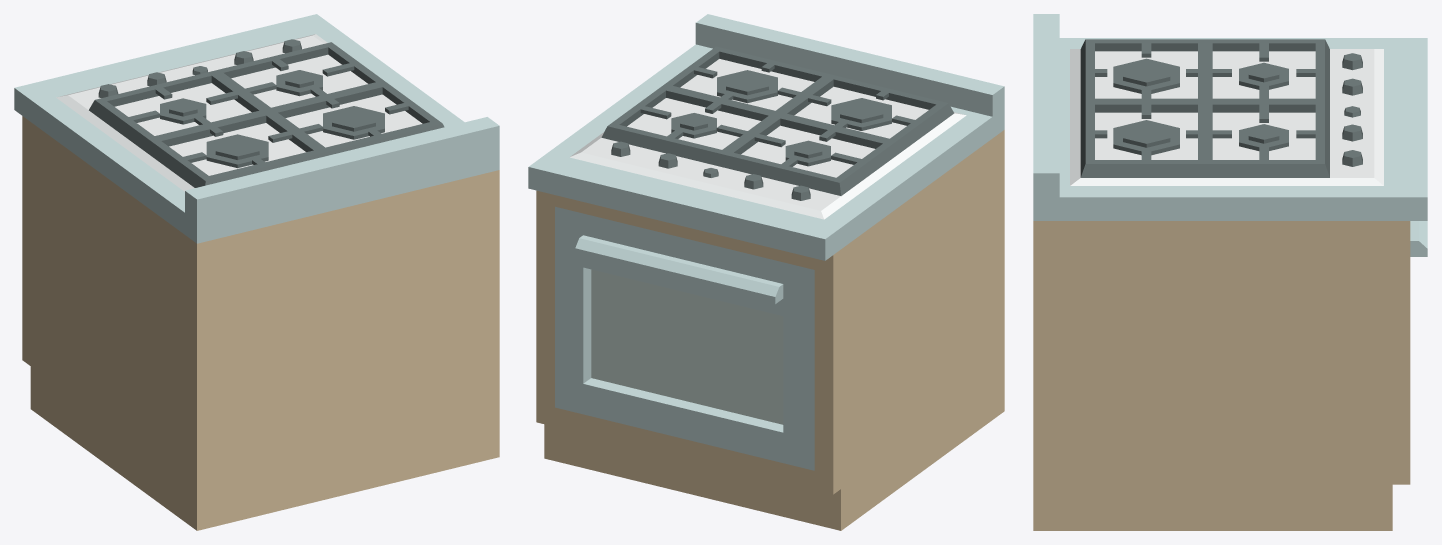
File: kitchenStove.glb
3 views of the same model, side by side, from view 1: azimuth 30°, elevation 25°; view 2: azimuth 150°, elevation 25°; view 3: azimuth 270°, elevation 25° (orthographic). The views are drawn at different scales.
Visible parts, largest first — view 1: kitchenStove; view 2: kitchenStove; view 3: kitchenStove.
Part boxes in pixels (x1,y1,x2,y2): kitchenStove: (14,14,499,530); kitchenStove: (528,14,1004,530); kitchenStove: (1033,14,1427,530).
Bounding box in the file's own units: 4.3 × 4.5 × 4.5.
